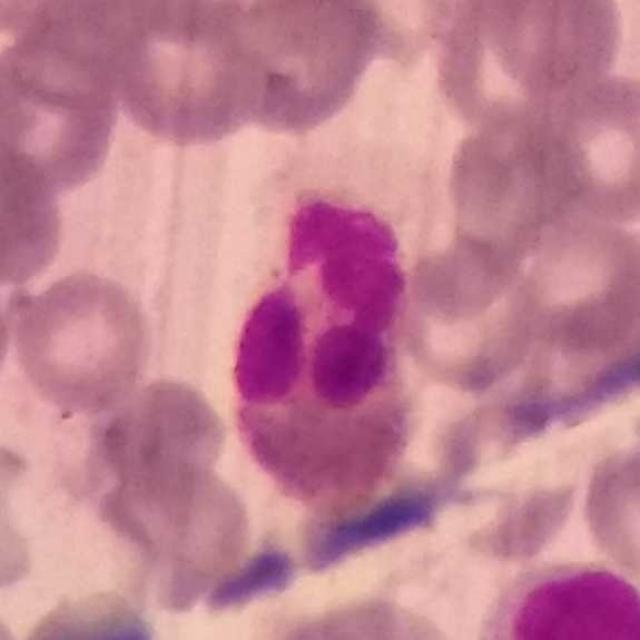Eosinophil: (225, 179, 422, 521), (492, 557, 640, 640)
RBC: (88, 445, 263, 616), (87, 0, 265, 148), (206, 0, 389, 137), (6, 265, 159, 415), (0, 20, 126, 201), (393, 250, 544, 396), (441, 106, 586, 255), (502, 211, 639, 362), (514, 69, 640, 227), (424, 2, 571, 137), (87, 372, 235, 503), (466, 0, 634, 106), (574, 417, 640, 596), (0, 129, 70, 294), (251, 590, 472, 640), (1, 0, 160, 58), (9, 584, 171, 640), (561, 0, 639, 105), (0, 247, 18, 415)
